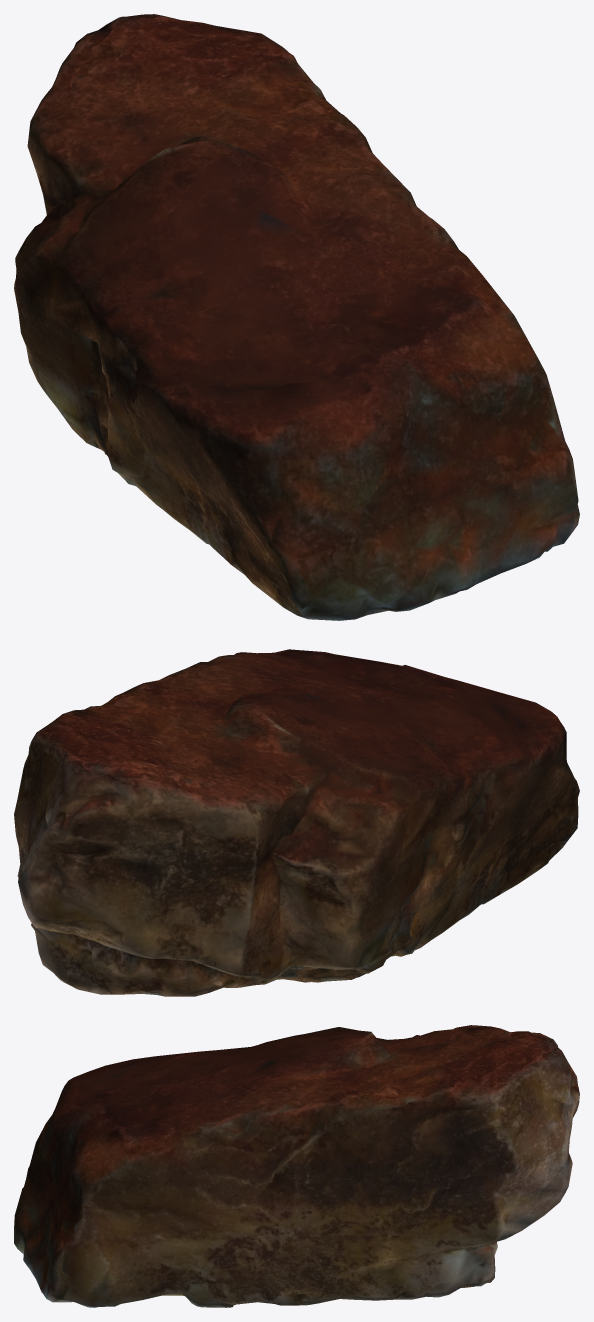
The model's file is p_rock7.glb.
3 renders of one model, top to bottom at view 1: azimuth 30°, elevation 25°; view 2: azimuth 150°, elevation 25°; view 3: azimuth 270°, elevation 25°, orthographic. The views are drawn at different scales.
Visible parts, largest first — view 1: rock_07; view 2: rock_07; view 3: rock_07.
Boxes of the visible parts, left/top/right/bottom form: rock_07: left=14, top=14, right=579, bottom=620; rock_07: left=14, top=649, right=579, bottom=996; rock_07: left=14, top=1025, right=579, bottom=1307.
Size of the model in its own units: 0.1686 by 0.1437 by 0.3199.
Materials: 1 (1 with a texture image).
